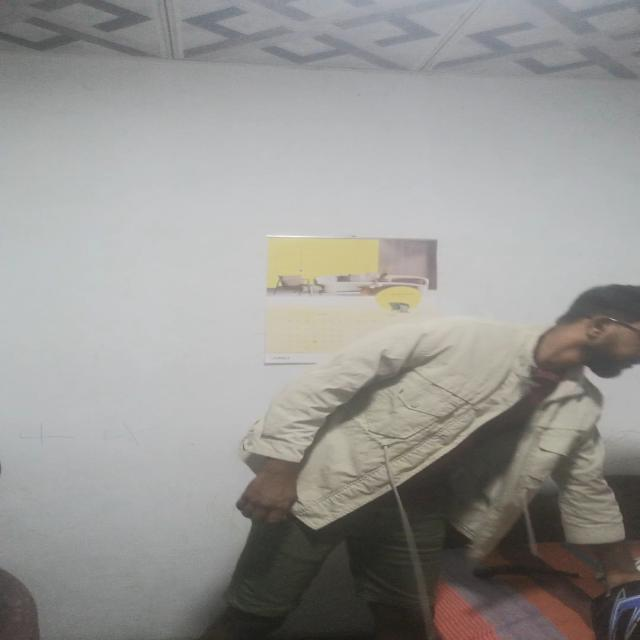Jacket_Wearer: (236, 322, 626, 553)
Person: (228, 251, 640, 640)
